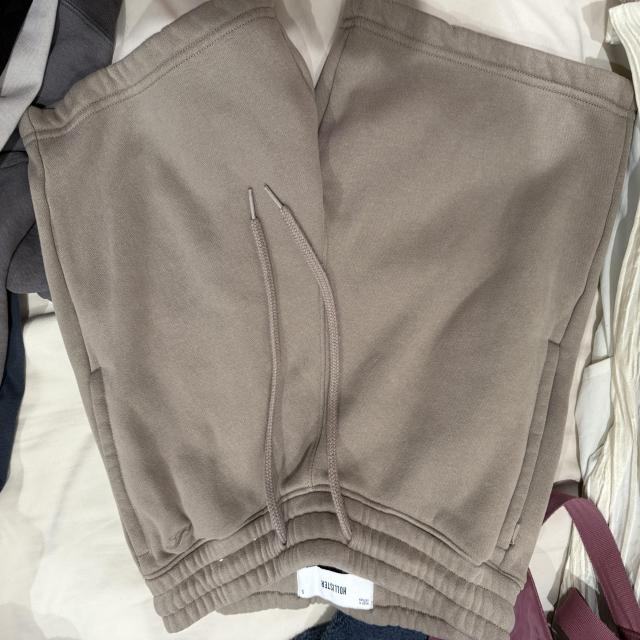back_tag: (292, 558, 379, 618)
